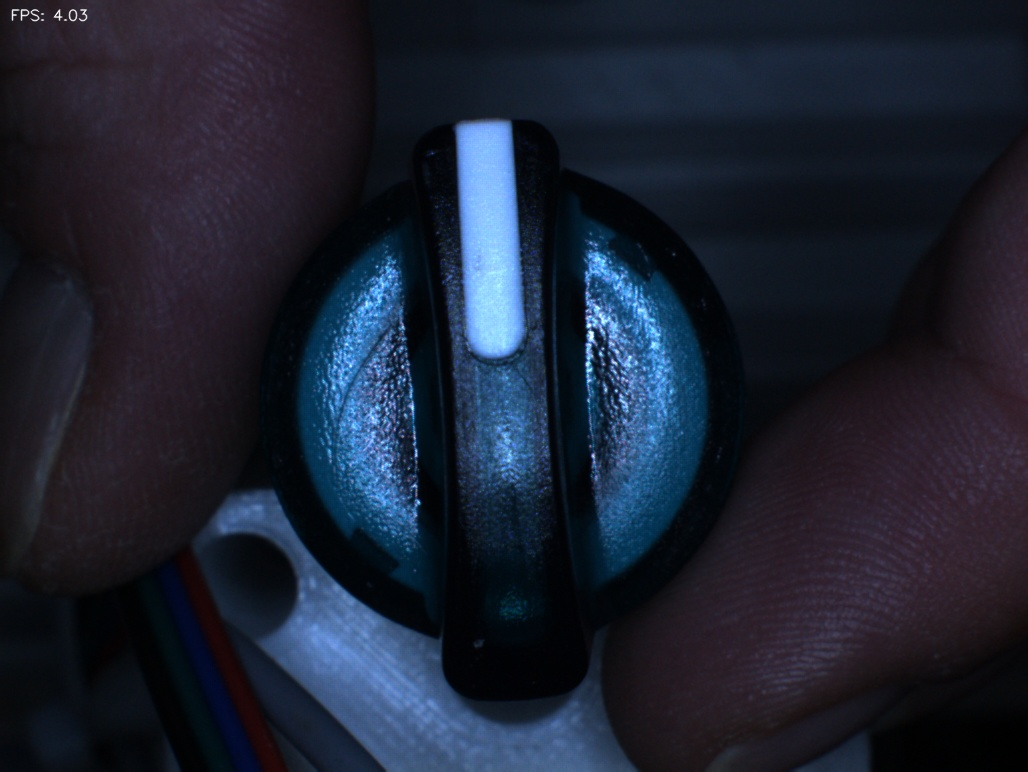PointNoir: (450, 233, 507, 305)
